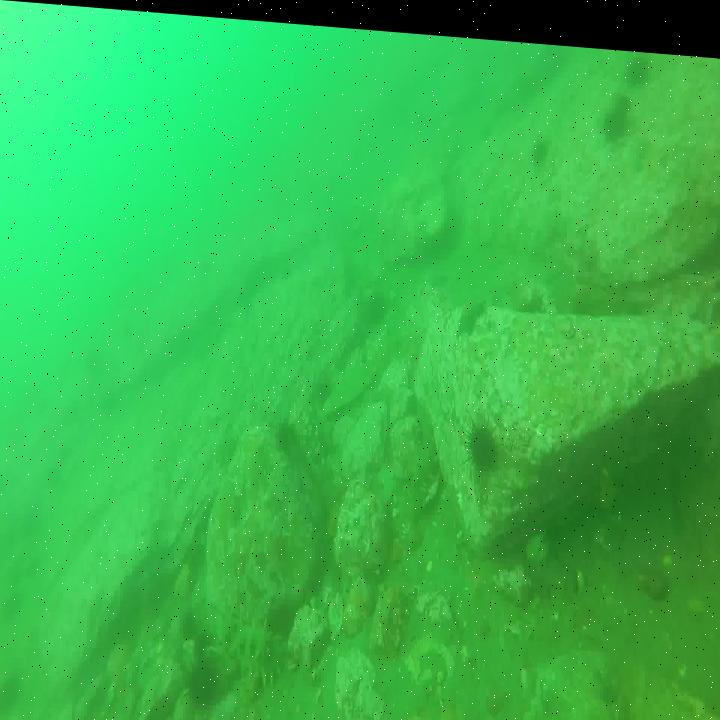echinus: (465, 410, 500, 473), (187, 646, 220, 705), (606, 85, 633, 133), (530, 126, 550, 163), (628, 44, 650, 72)
holothurian: (231, 612, 291, 682)
